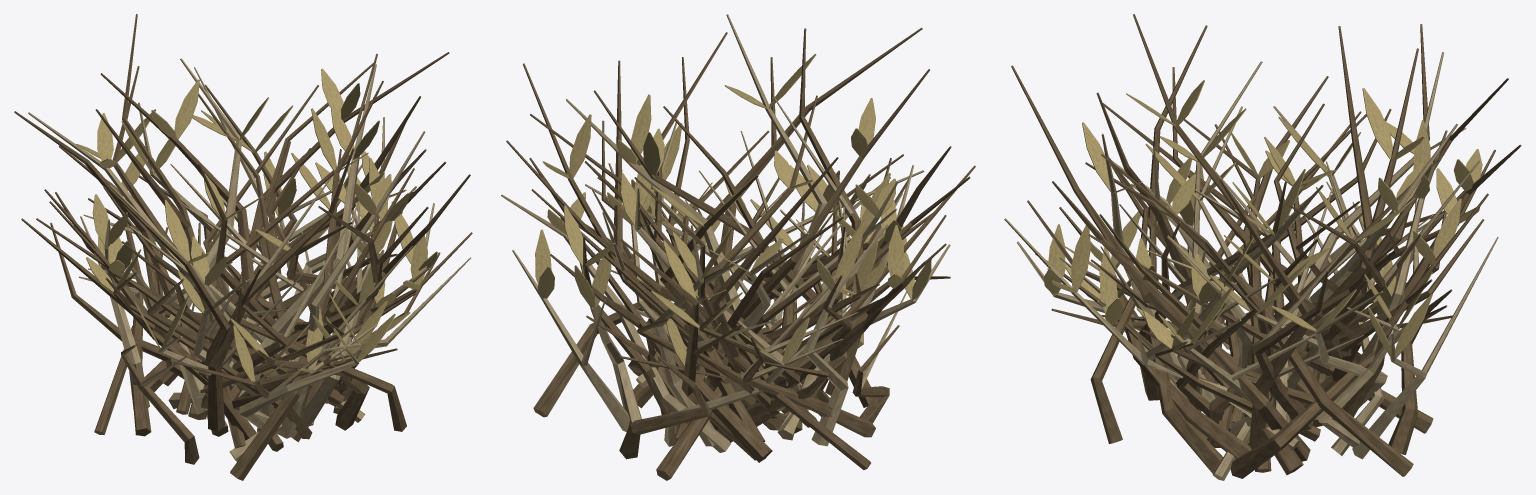
The model's file is BUSH_03_LOW_SALTBUSH.glb.
3 renders of one model, left to right at view 1: azimuth 30°, elevation 25°; view 2: azimuth 150°, elevation 25°; view 3: azimuth 270°, elevation 25°, orthographic. The views are drawn at different scales.
Visible parts, largest first — view 1: BUSH_03_LOW_SALTBUSH__LIGNIFIED_STEMS, BUSH_03_LOW_SALTBUSH__PAPERY_DEAD_LEAVES; view 2: BUSH_03_LOW_SALTBUSH__LIGNIFIED_STEMS, BUSH_03_LOW_SALTBUSH__PAPERY_DEAD_LEAVES; view 3: BUSH_03_LOW_SALTBUSH__LIGNIFIED_STEMS, BUSH_03_LOW_SALTBUSH__PAPERY_DEAD_LEAVES.
Boxes of the visible parts, x1=… form: BUSH_03_LOW_SALTBUSH__LIGNIFIED_STEMS: x1=14, y1=14, x2=472, y2=480; BUSH_03_LOW_SALTBUSH__PAPERY_DEAD_LEAVES: x1=76, y1=68, x2=437, y2=384; BUSH_03_LOW_SALTBUSH__LIGNIFIED_STEMS: x1=501, y1=14, x2=975, y2=480; BUSH_03_LOW_SALTBUSH__PAPERY_DEAD_LEAVES: x1=535, y1=54, x2=931, y2=366; BUSH_03_LOW_SALTBUSH__LIGNIFIED_STEMS: x1=1004, y1=14, x2=1521, y2=480; BUSH_03_LOW_SALTBUSH__PAPERY_DEAD_LEAVES: x1=1044, y1=80, x2=1482, y2=359.
Bounding box in the file's own units: 0.65 × 0.514 × 0.6602.
1 material, 1 textured.
